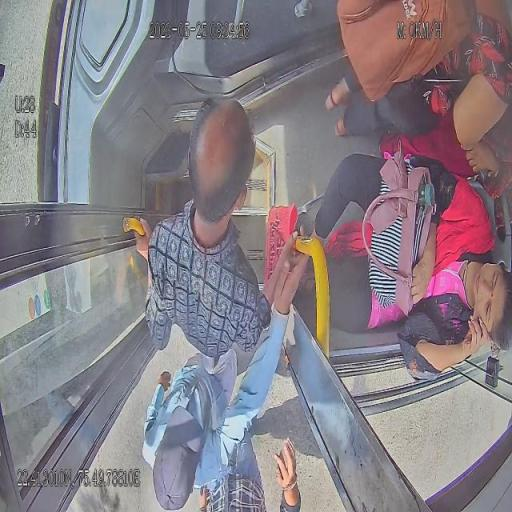persona: (295, 145, 511, 381), (141, 227, 310, 510), (133, 95, 273, 375), (325, 0, 512, 152)
